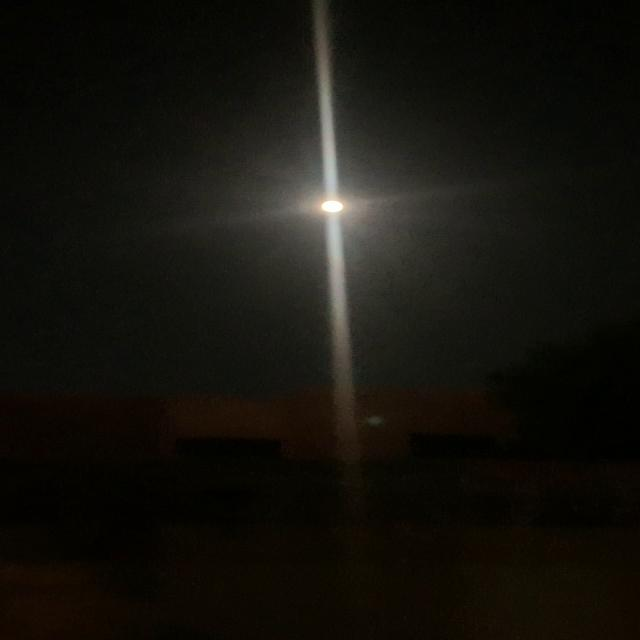moon: (302, 189, 363, 222)
